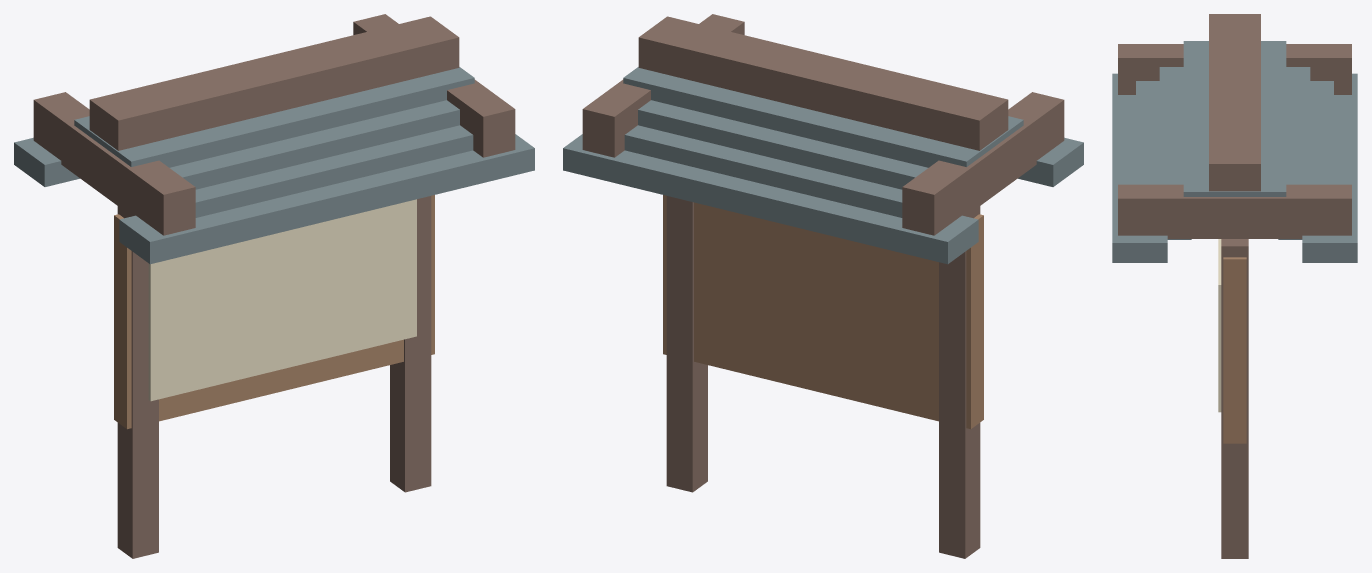
File: village_notice_board.glb
3 renders of one model, left to right at view 1: azimuth 30°, elevation 25°; view 2: azimuth 150°, elevation 25°; view 3: azimuth 270°, elevation 25°, orthographic. The views are drawn at different scales.
Visible parts, largest first — view 1: wood_dark, roof, paper, wood; view 2: wood_dark, wood, roof; view 3: wood_dark, roof, wood, paper.
Part boxes in pixels (<box>): wood_dark: <box>33,14,515,558</box>; roof: <box>14,67,534,264</box>; paper: <box>148,199,416,401</box>; wood: <box>114,195,434,429</box>; wood_dark: <box>582,14,1064,558</box>; wood: <box>663,195,983,429</box>; roof: <box>563,67,1083,264</box>; wood_dark: <box>1118,14,1351,558</box>; roof: <box>1112,41,1357,262</box>; wood: <box>1223,257,1246,443</box>; paper: <box>1218,239,1221,412</box>.
Size of the model in its own units: 3.25 by 3.62 by 1.99.
